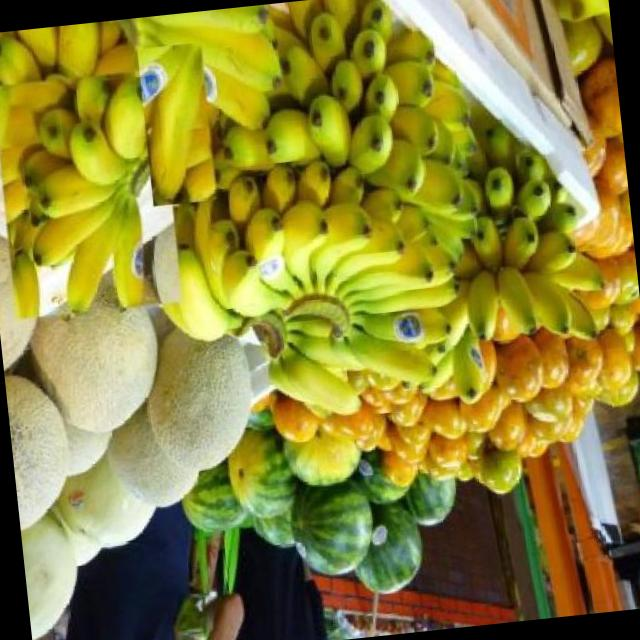Banana: (152, 159, 474, 431), (0, 68, 183, 318)
